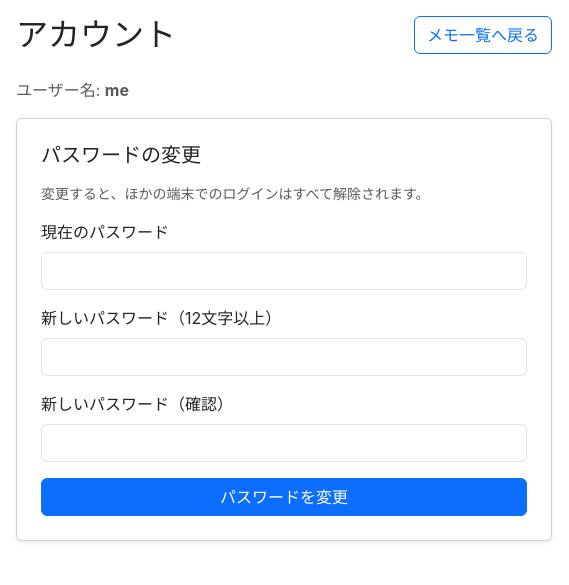
Test: AccountPage › 確認用が一致しなければ送信しない
In the password field labelled "現在のパスワード": (284,271) [41,252,527,290], type "old-password-1234"
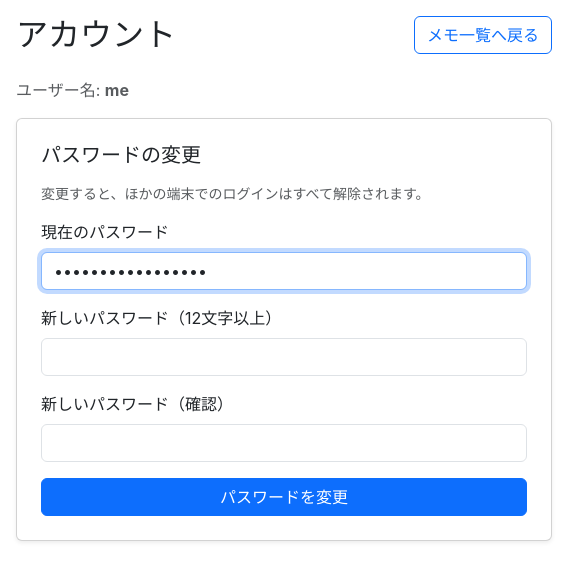
In the password field labelled "新しいパスワード（12文字以上）": (284,357) [41,338,527,376], type "new-password-5678"
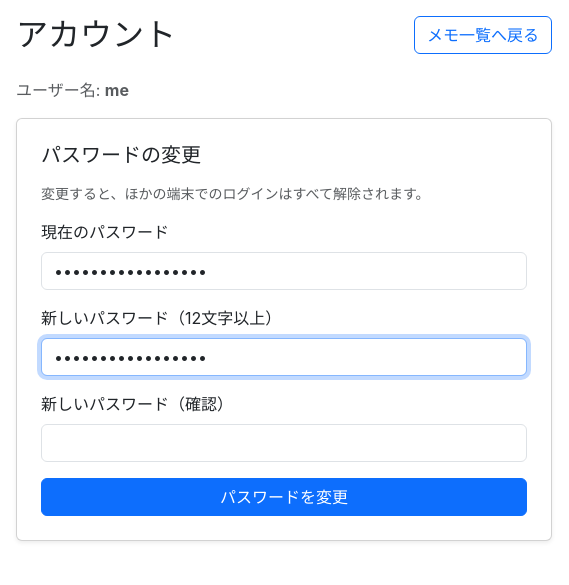
In the password field labelled "新しいパスワード（確認）": (284,443) [41,424,527,462], type "new-password-0000"
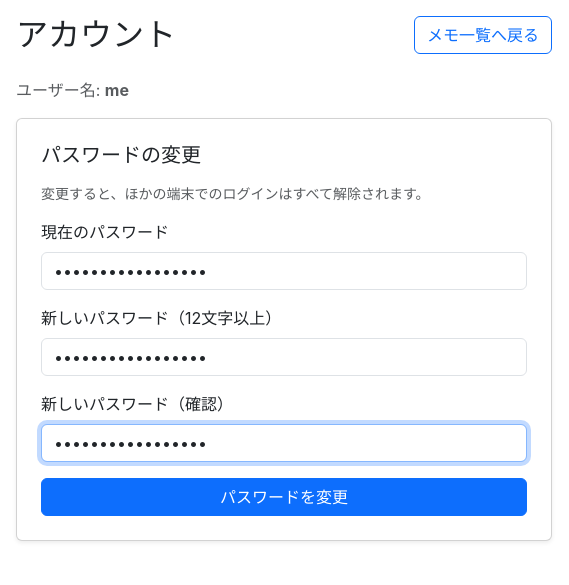
Click the button "パスワードを変更": (284,497) [41,478,527,516]
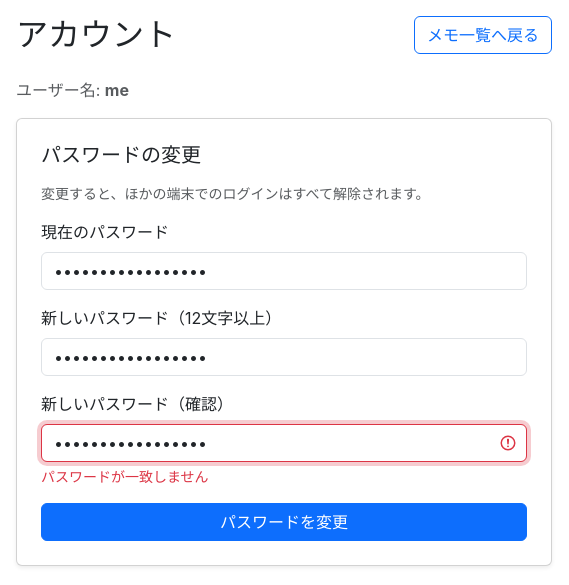
Expected: the text "パスワードが一致しません" is shown, [41,468,209,485]
